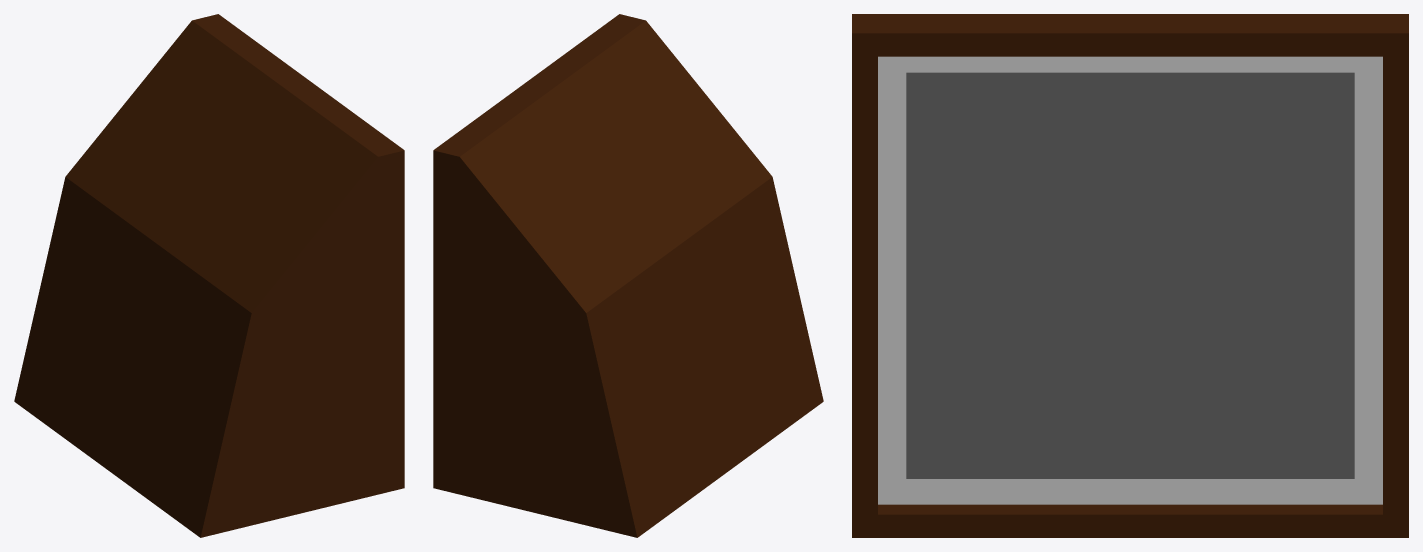
Rendered from Frame.fbx.
The picture shows the model from 3 angles, left to right: view 1: azimuth 30°, elevation 25°; view 2: azimuth 150°, elevation 25°; view 3: azimuth 270°, elevation 25°; orthographic projection. The views are drawn at different scales.
Visible parts, largest first — view 1: Face; view 2: Face; view 3: Face.
Part boxes in pixels (x1=…): Face: x1=14, y1=14, x2=404, y2=537; Face: x1=433, y1=14, x2=823, y2=537; Face: x1=852, y1=14, x2=1408, y2=537.
Size of the model in its own units: 1.27 by 2 by 2.
